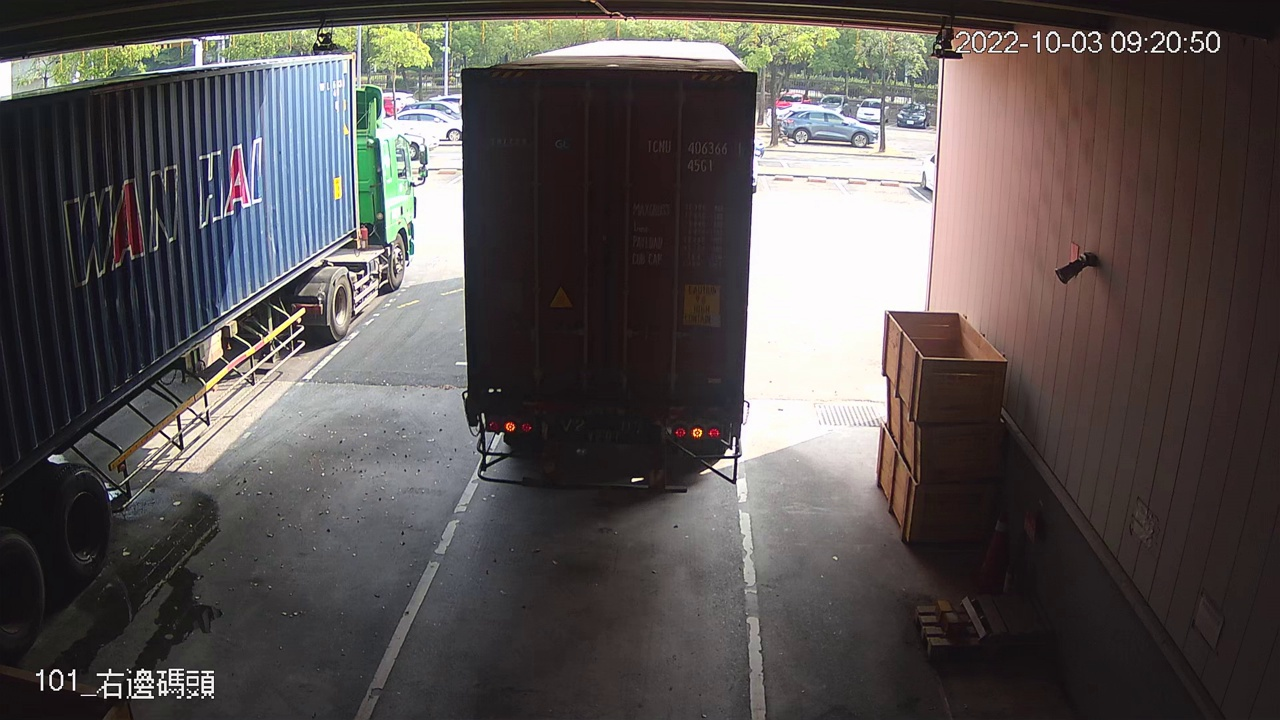container: (640, 131, 748, 178)
